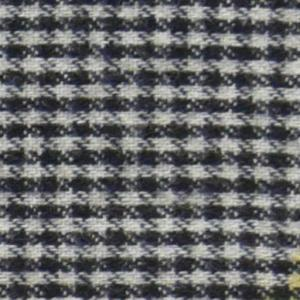Stain: (267, 259, 300, 300)
